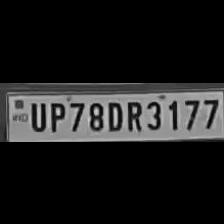1: (164, 97, 181, 131)
3: (142, 97, 162, 131)
7: (65, 98, 85, 132), (180, 96, 198, 130), (200, 96, 218, 128)
8: (85, 97, 105, 130)
D: (105, 97, 123, 130)
P: (46, 98, 66, 132)
R: (122, 97, 142, 130)
U: (27, 99, 47, 131)
